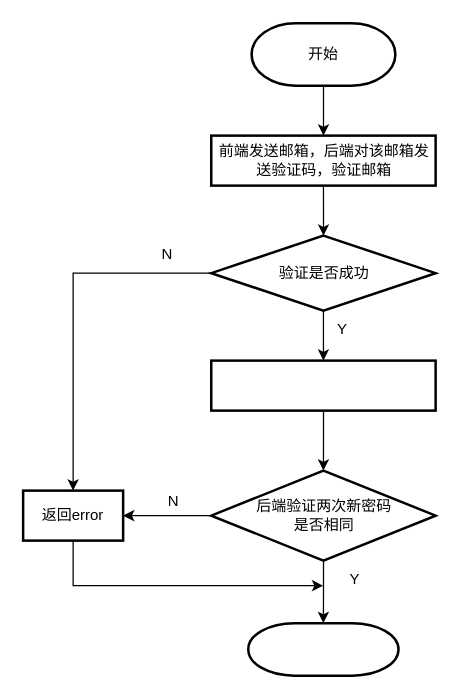
This 458x698 diagram has some shape labels left out. Here are the shapes that lost their labels. From the top down, the box of each, then its label:
(209, 359, 436, 411): 前端发送给后端输入两次的新密码
(246, 621, 399, 676): 结束
